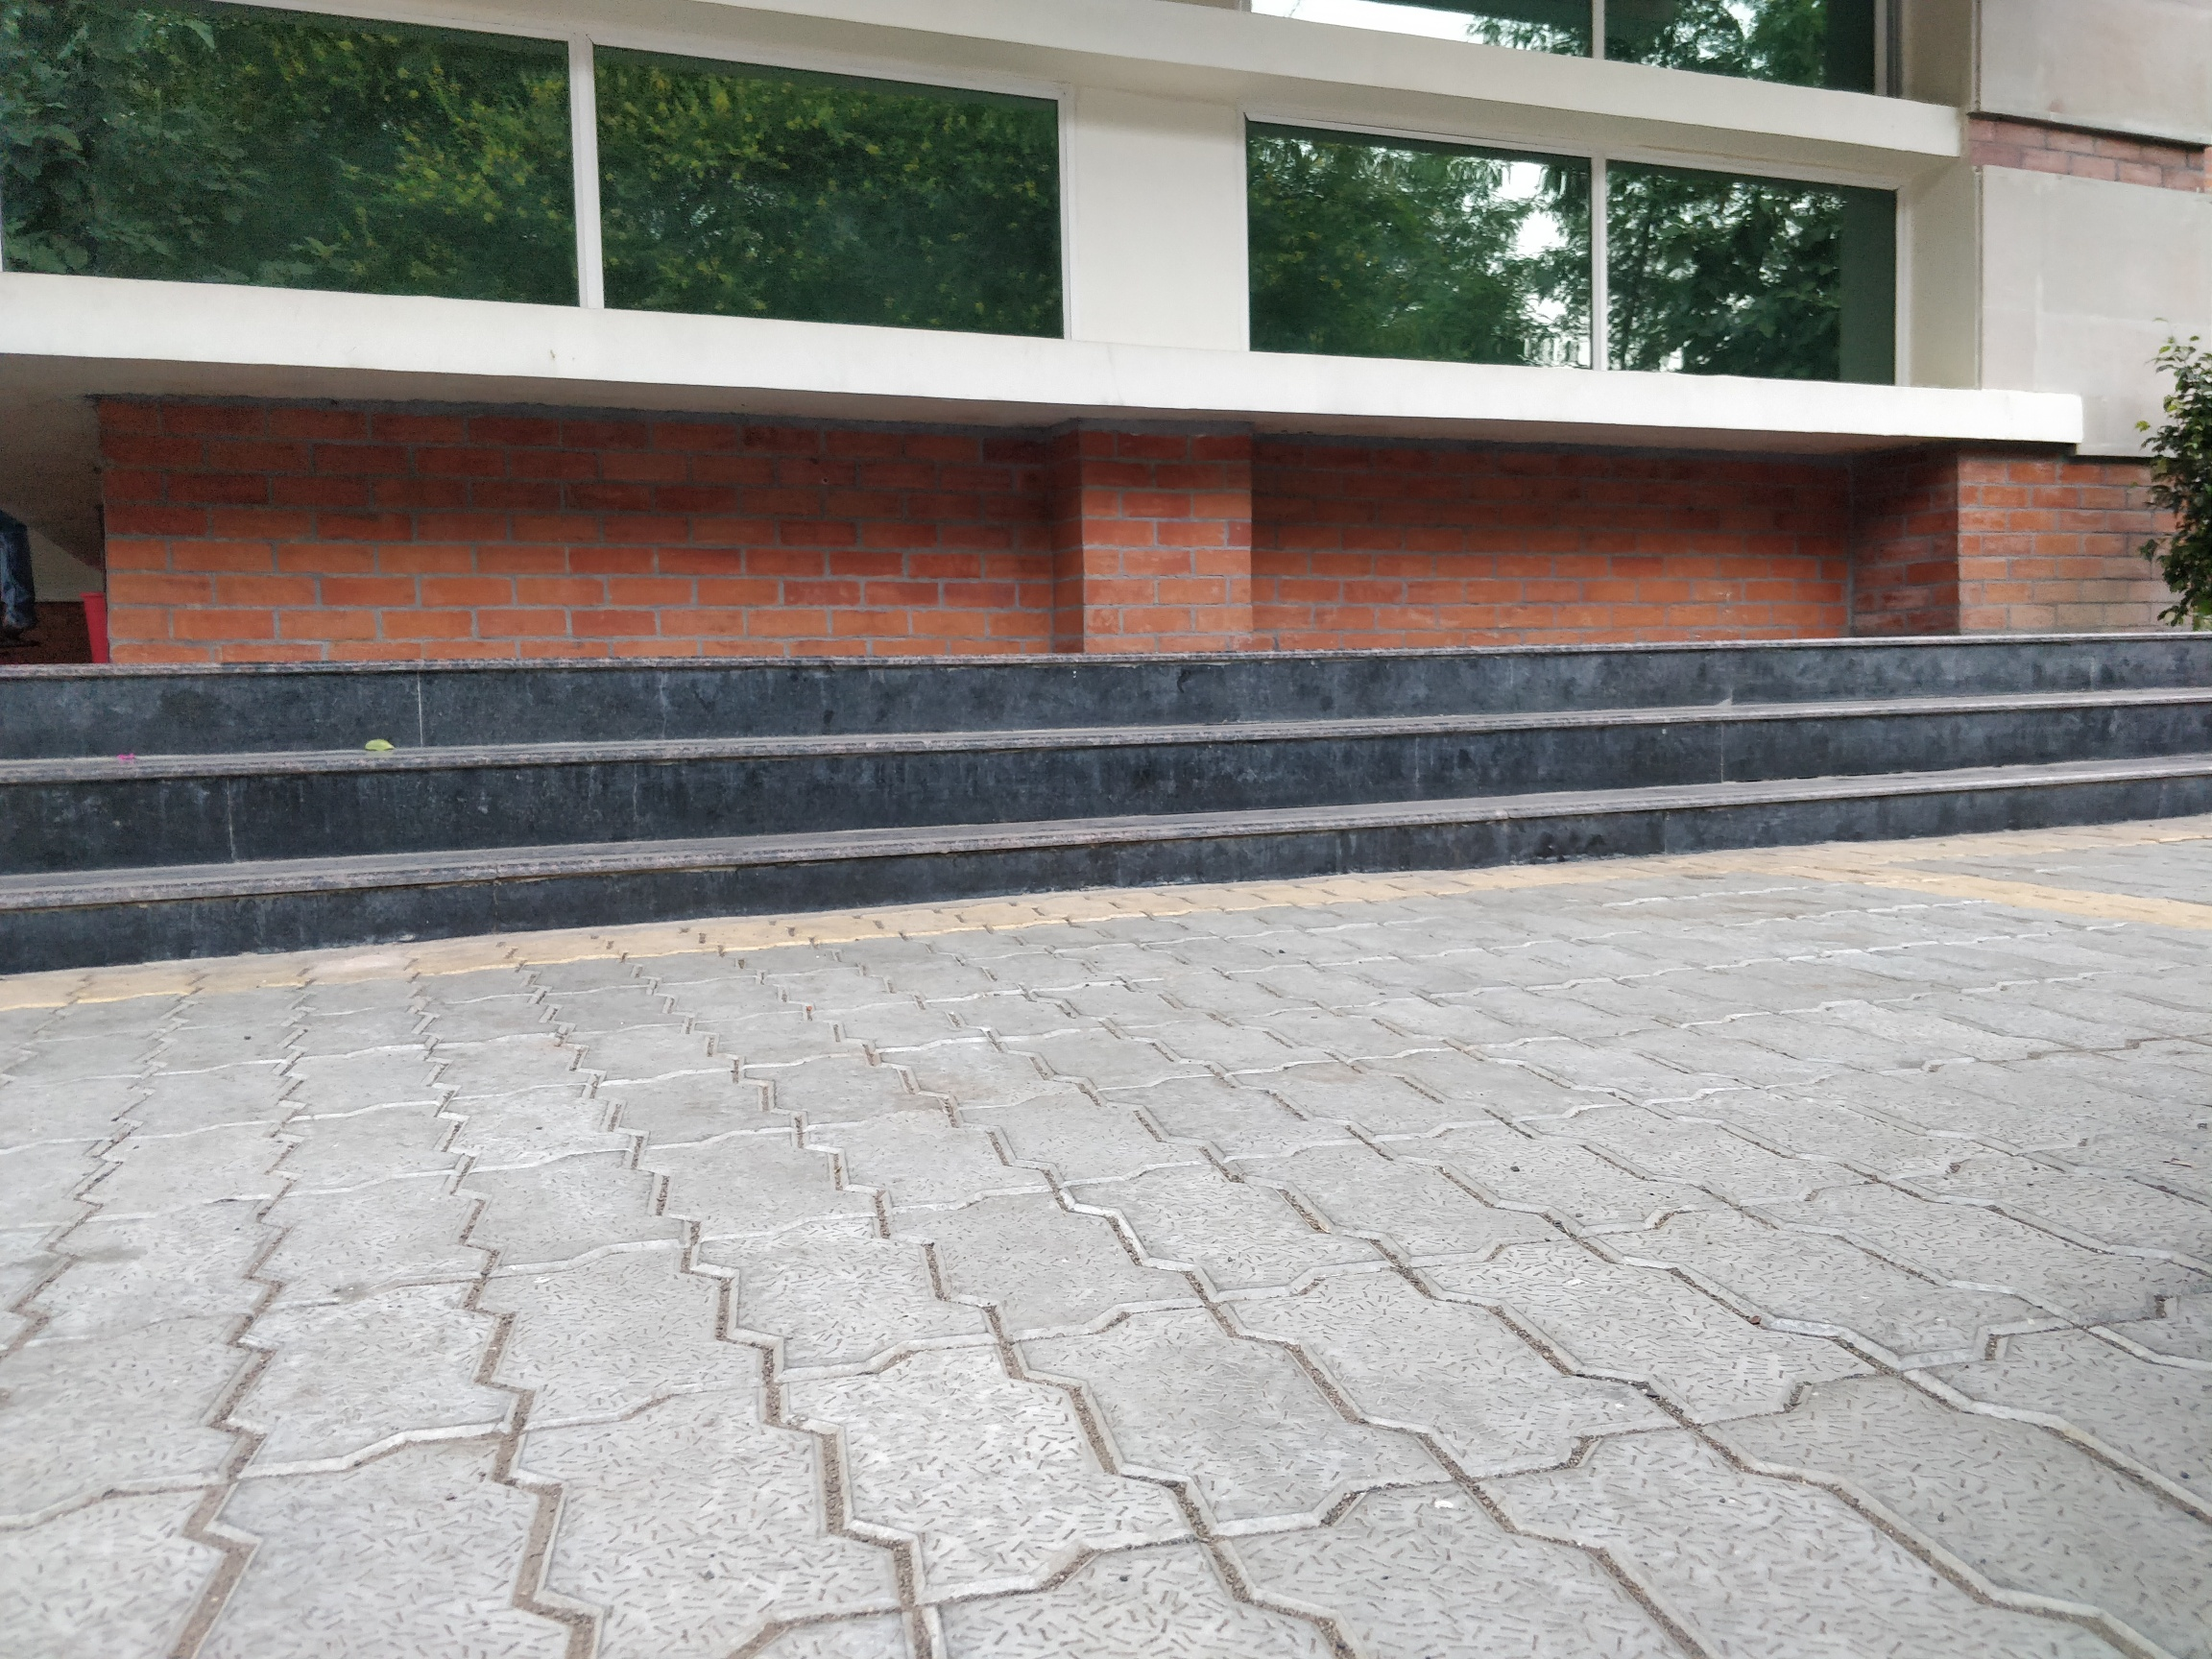stairs_up: (14, 620, 2212, 911)
